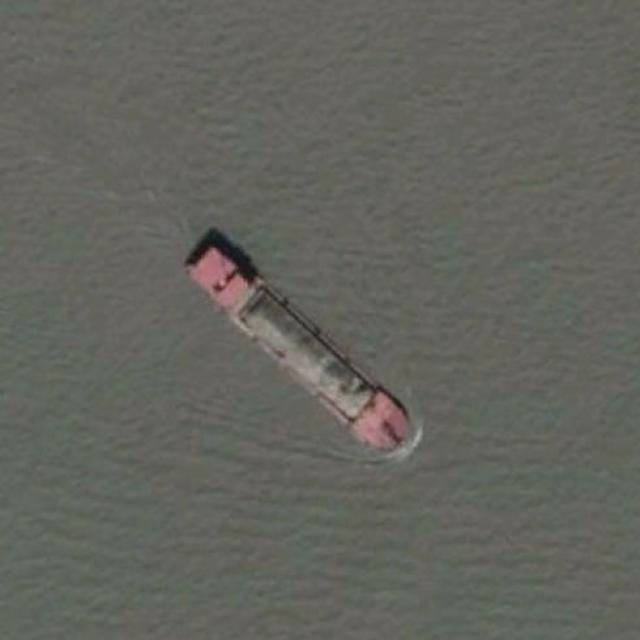boat: (183, 229, 410, 453)
